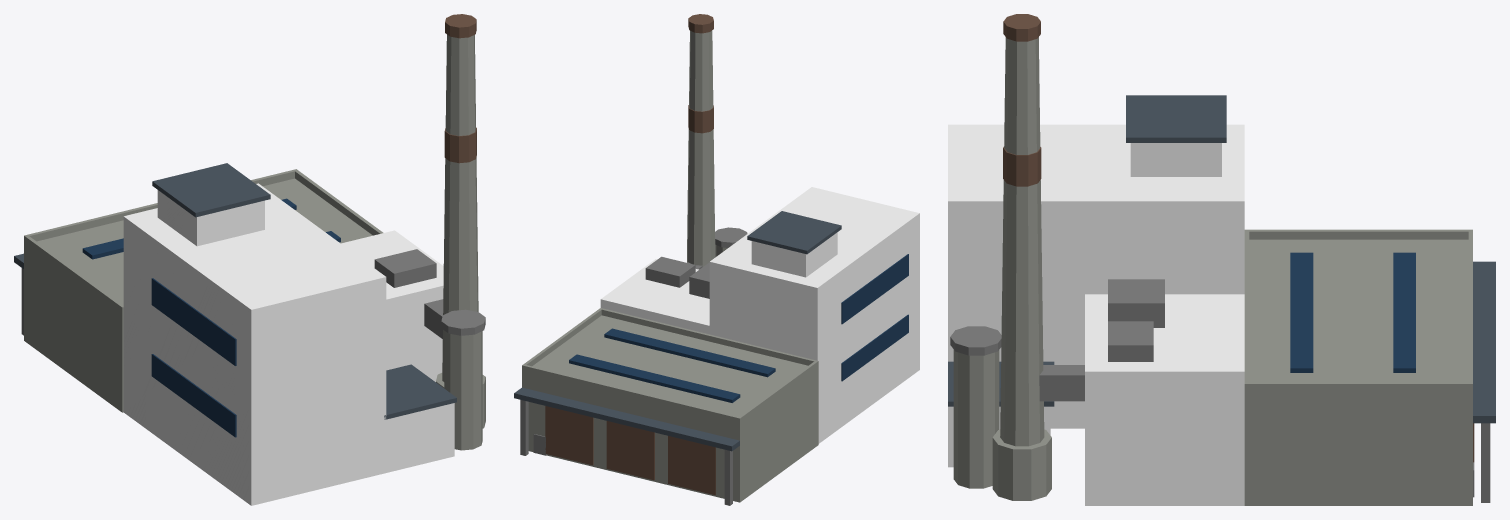
The model's file is site_plant.fbx.
3 views of the same model, side by side, from view 1: azimuth 30°, elevation 25°; view 2: azimuth 150°, elevation 25°; view 3: azimuth 270°, elevation 25° (orthographic). The views are drawn at different scales.
Parts seen in each view (by area): view 1: a1059/0/site_plant; view 2: a1059/0/site_plant; view 3: a1059/0/site_plant.
Boxes of the visible parts, <box> form: a1059/0/site_plant: <box>14,14,485,505</box>; a1059/0/site_plant: <box>514,14,919,505</box>; a1059/0/site_plant: <box>948,14,1495,505</box>.
Bounding box in the file's own units: 32 × 45.2 × 48.
